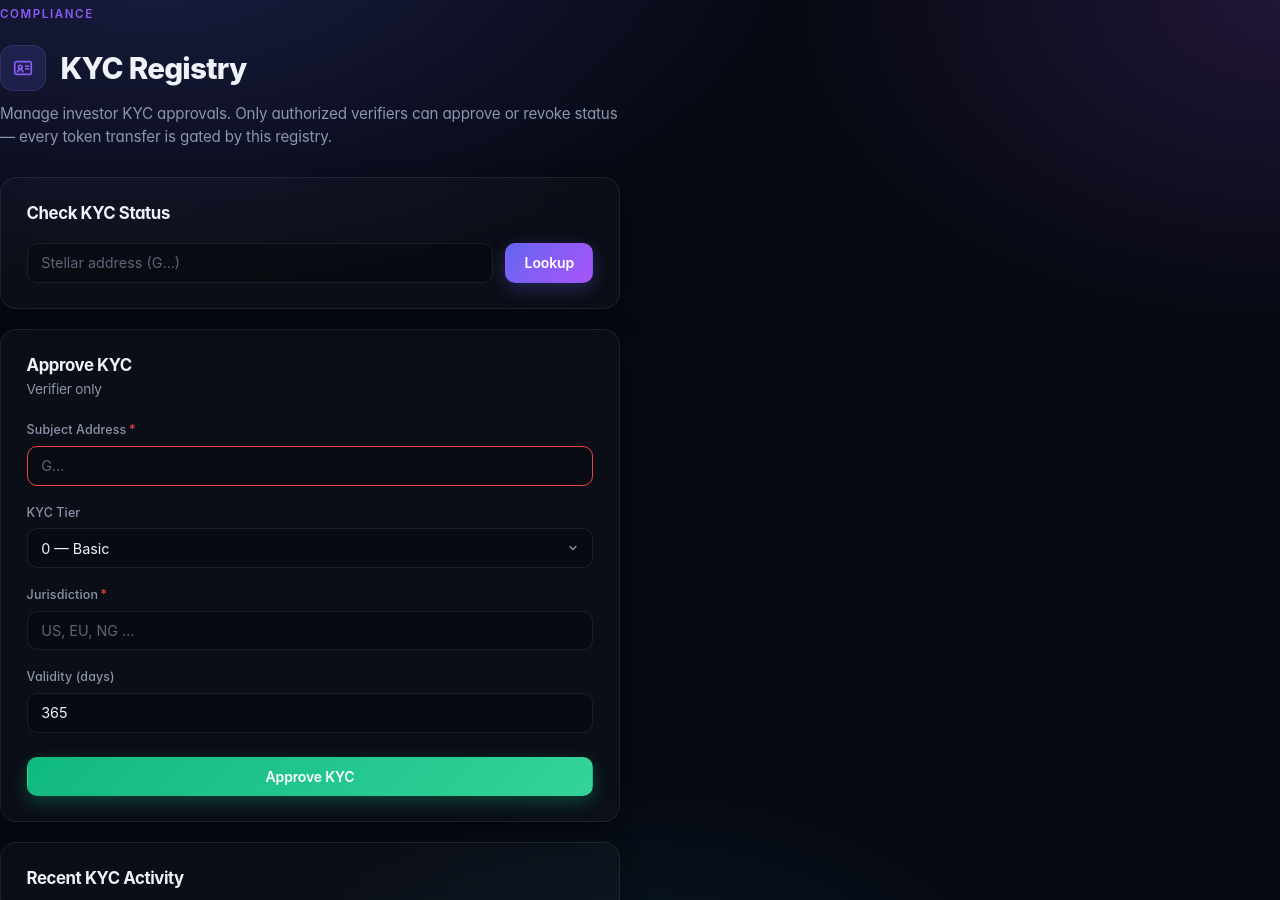
KycPage – approve form › shows a confirmation dialog when a valid form is submitted
The width and height of the screenshot is (1280, 900).
Type "GBQG2SJ7MXUH34SI3MJ2I256I5UMGM2QSQZM77YFX5S6JOHXUQJEPC3A" into the field labelled "Subject Address*" at (310, 466), box [27,446,593,486]
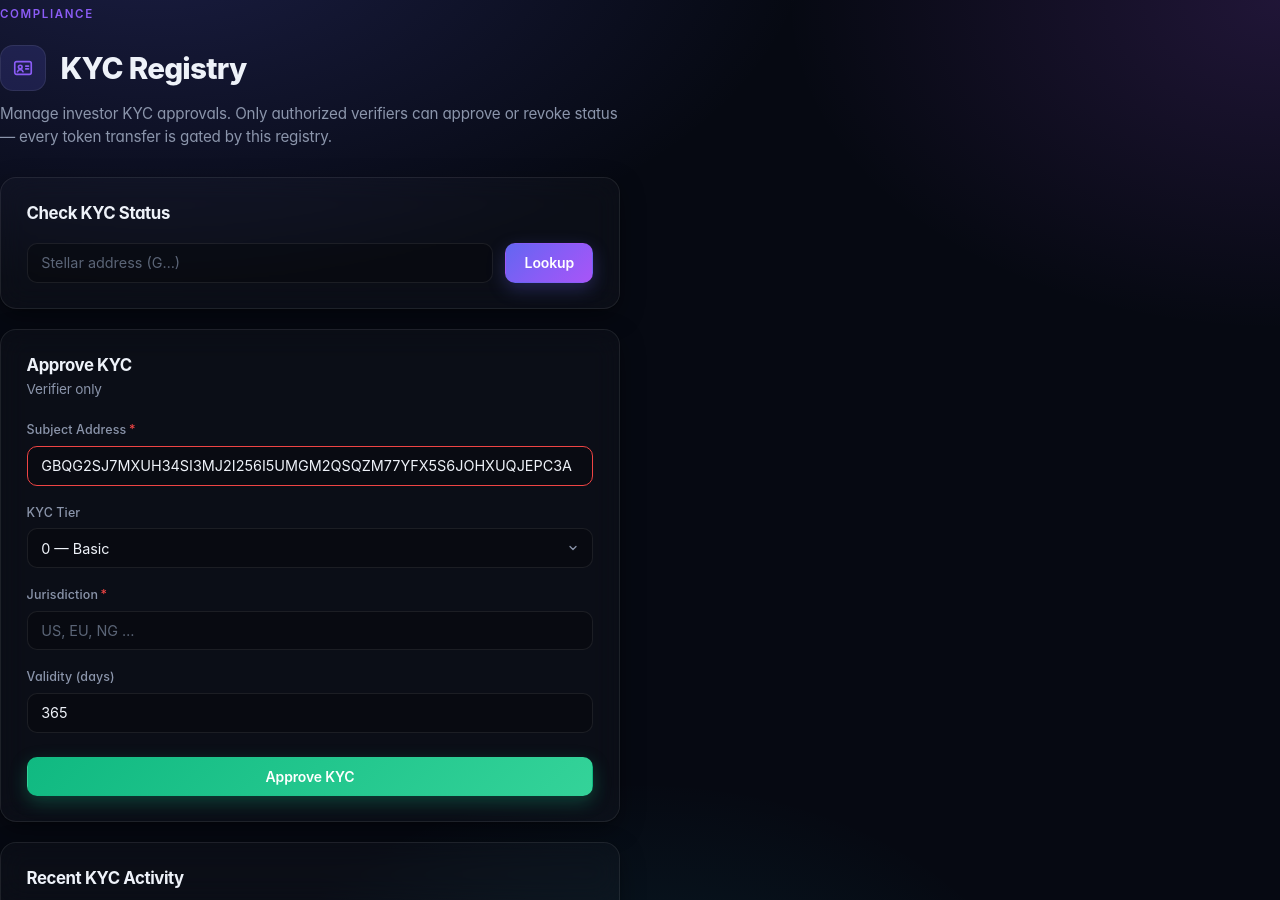
Type "US" into the field labelled "Jurisdiction*" at (310, 630), box [27,610,593,650]
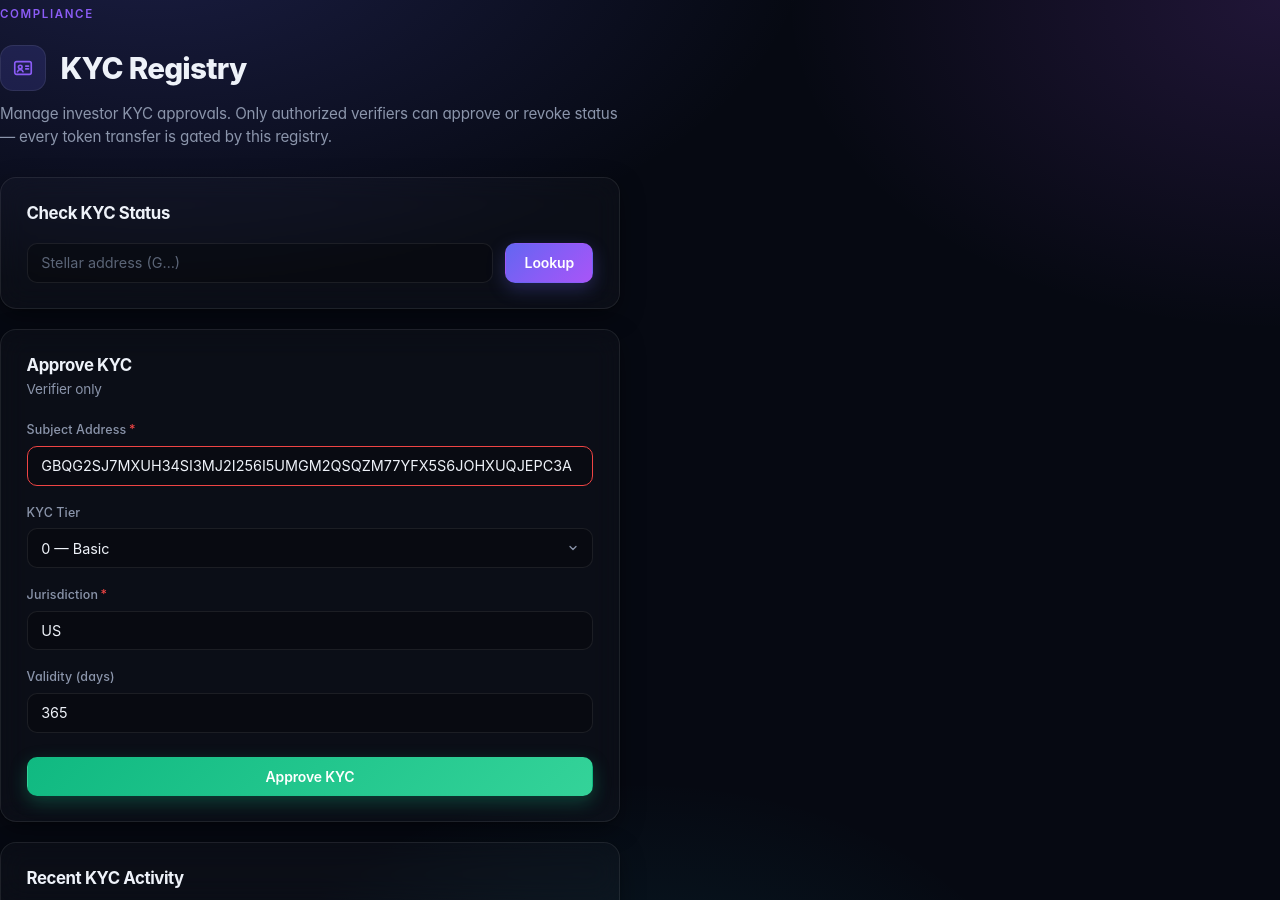
Click the button "Approve KYC" at (310, 776), box [27,757,593,796]
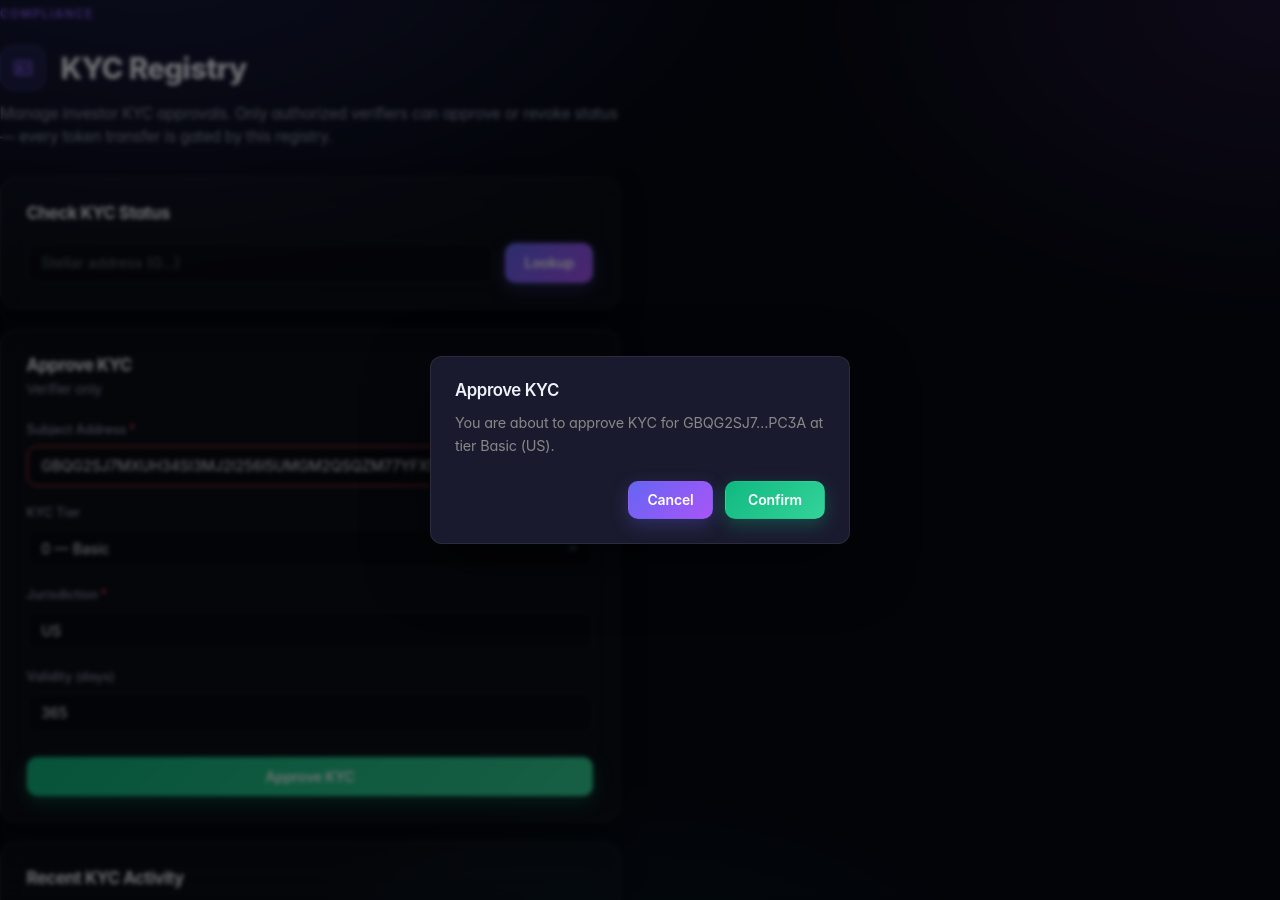
Check: the dialog is shown
